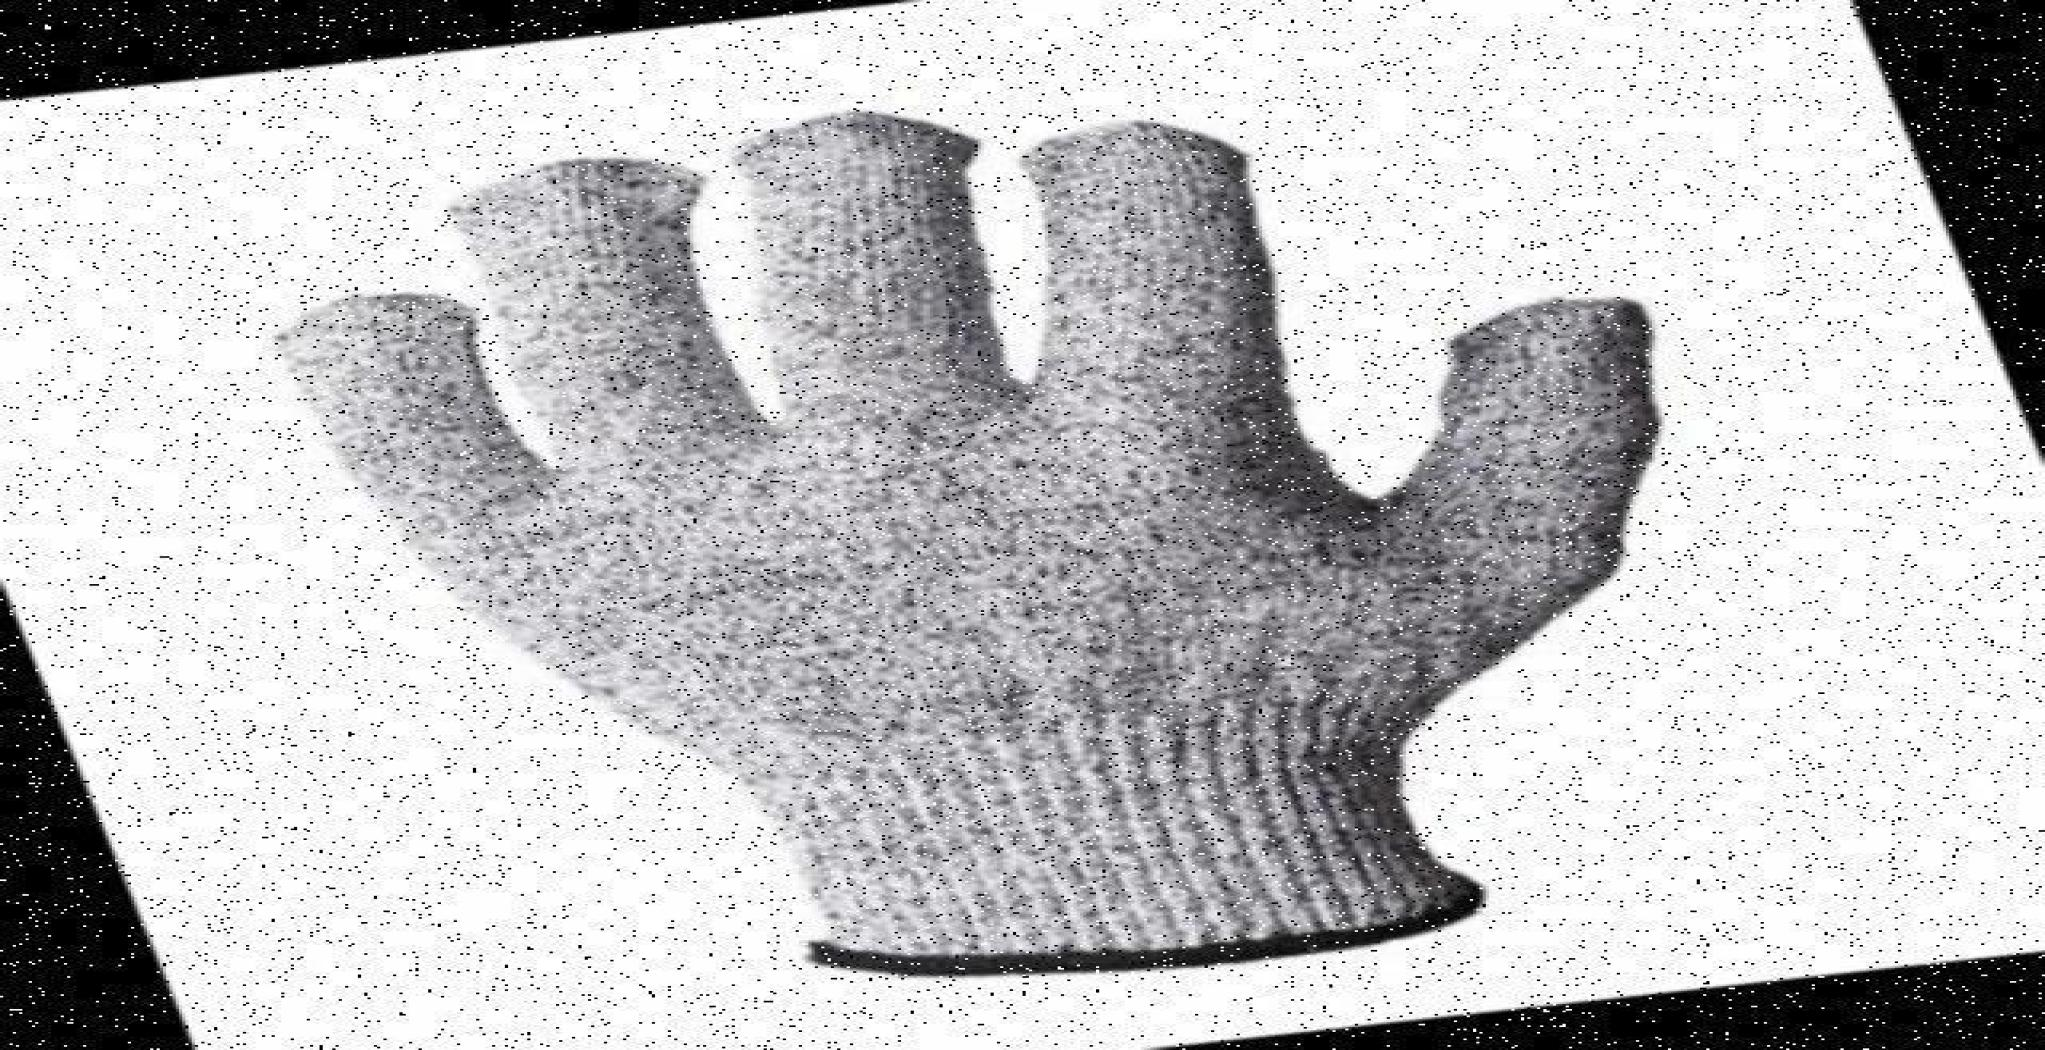gloved: (268, 107, 1665, 975)
